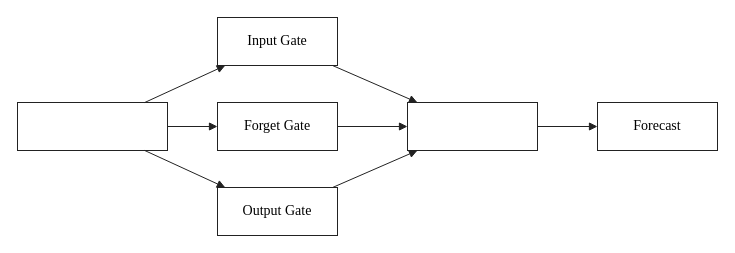
Image size: 735x253. Some labels were removed from this diagram. Each missing label, with the centre of its shape:
Hidden State: the point at 472,126
Time Series Window: the point at 92,126
